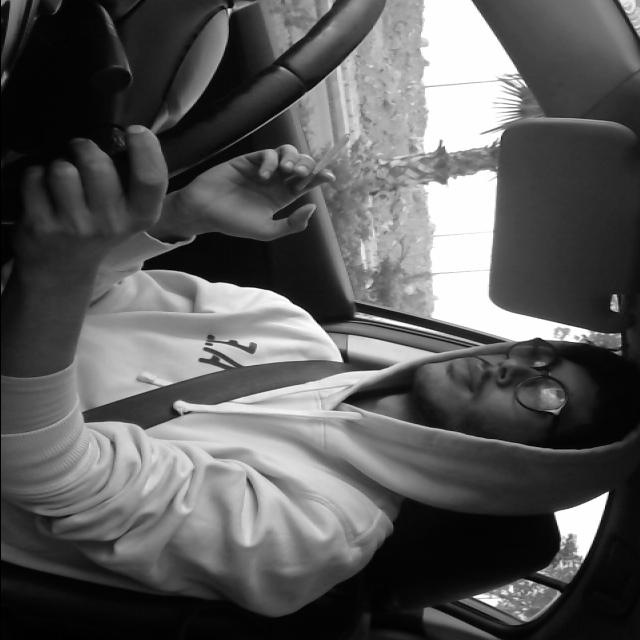smoking: (288, 128, 356, 194)
